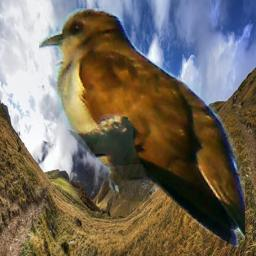Cuckoo: (39, 8, 245, 251)
